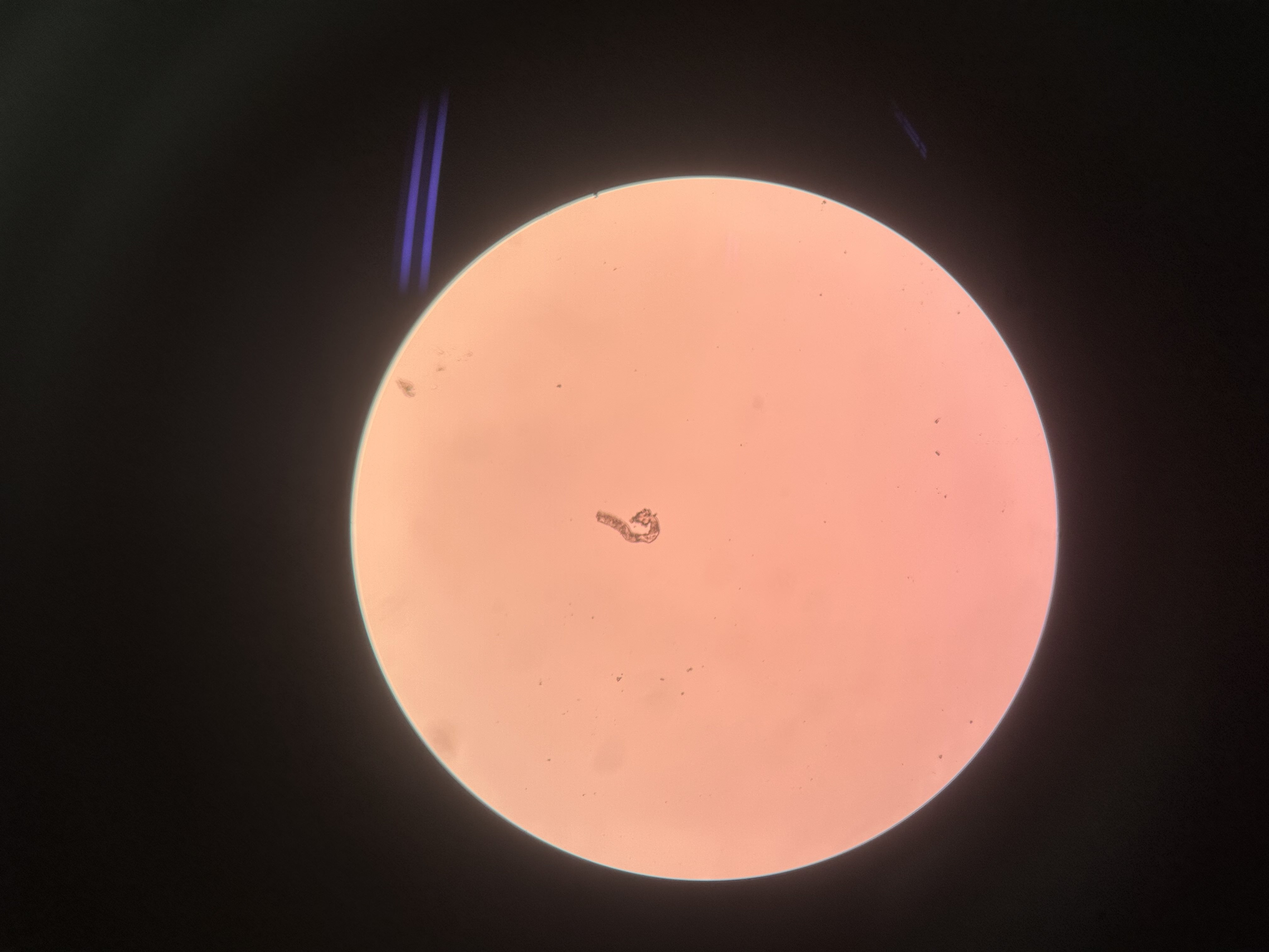not_microplastic: (585, 505, 663, 546), (396, 376, 423, 398)
